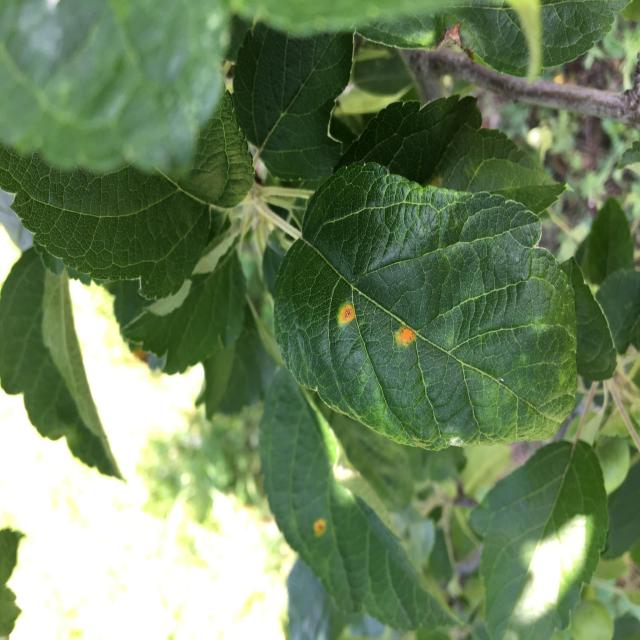Rust: (326, 265, 364, 355), (386, 306, 432, 380), (301, 508, 339, 559)
